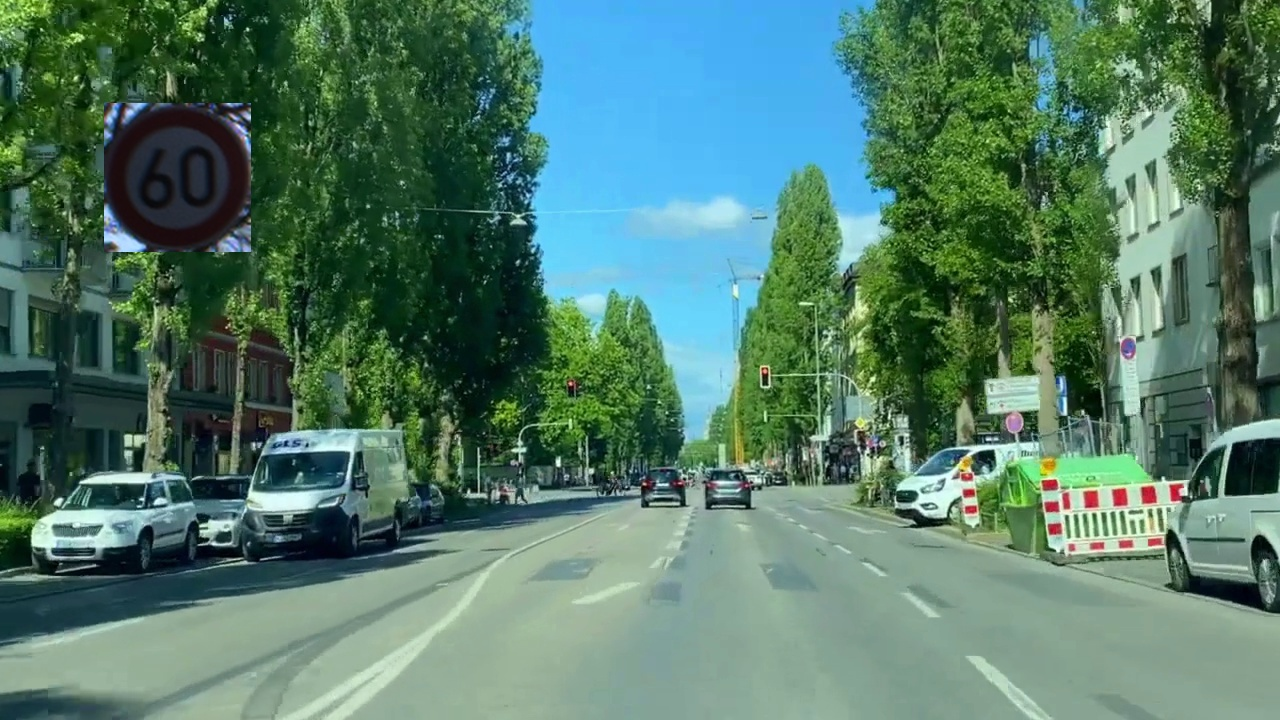Speed 60: (104, 103, 251, 252)
